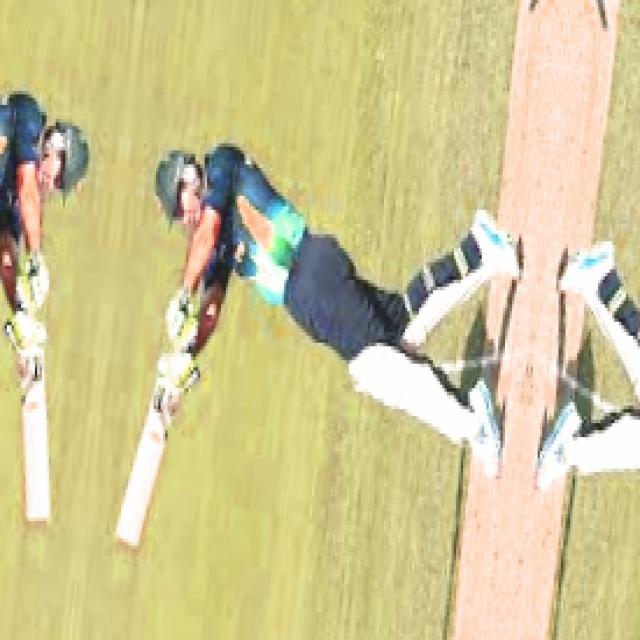toe: (109, 524, 141, 557)
